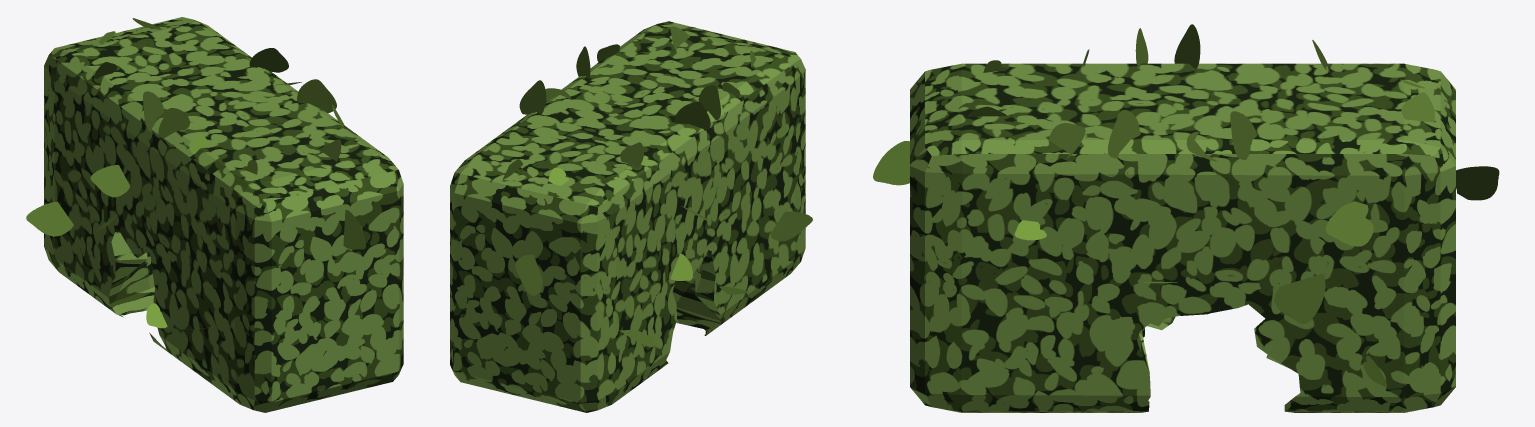
The model's file is hedgehole.fbx.
3 views of the same model, side by side, from view 1: azimuth 30°, elevation 25°; view 2: azimuth 150°, elevation 25°; view 3: azimuth 270°, elevation 25° (orthographic). The views are drawn at different scales.
Parts seen in each view (by area): view 1: Plane.013; view 2: Plane.013; view 3: Plane.013.
Boxes of the visible parts, bbox=[...] form: Plane.013: bbox=[26, 17, 403, 412]; Plane.013: bbox=[450, 21, 812, 412]; Plane.013: bbox=[873, 24, 1499, 412].
Bounding box in the file's own units: 55.31 × 57.14 × 108.
